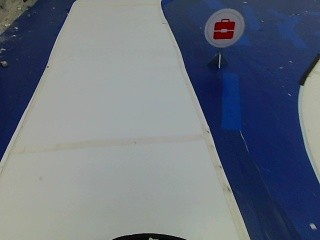company: (203, 8, 245, 46)
